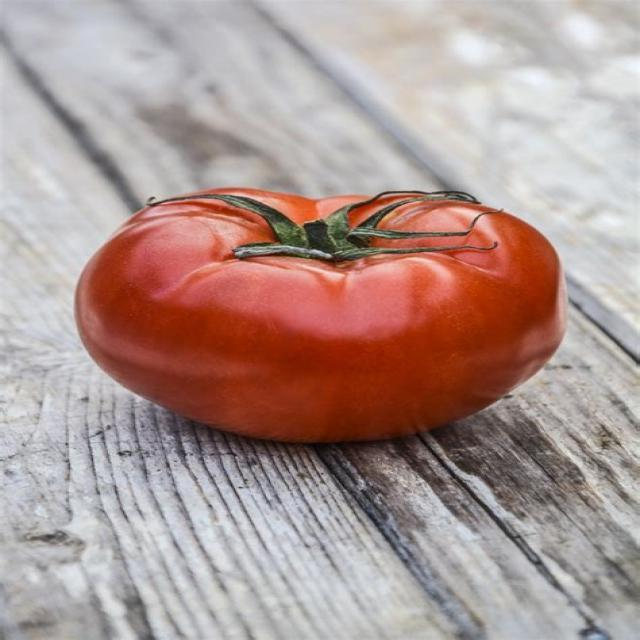Tomato: (73, 187, 569, 447)
